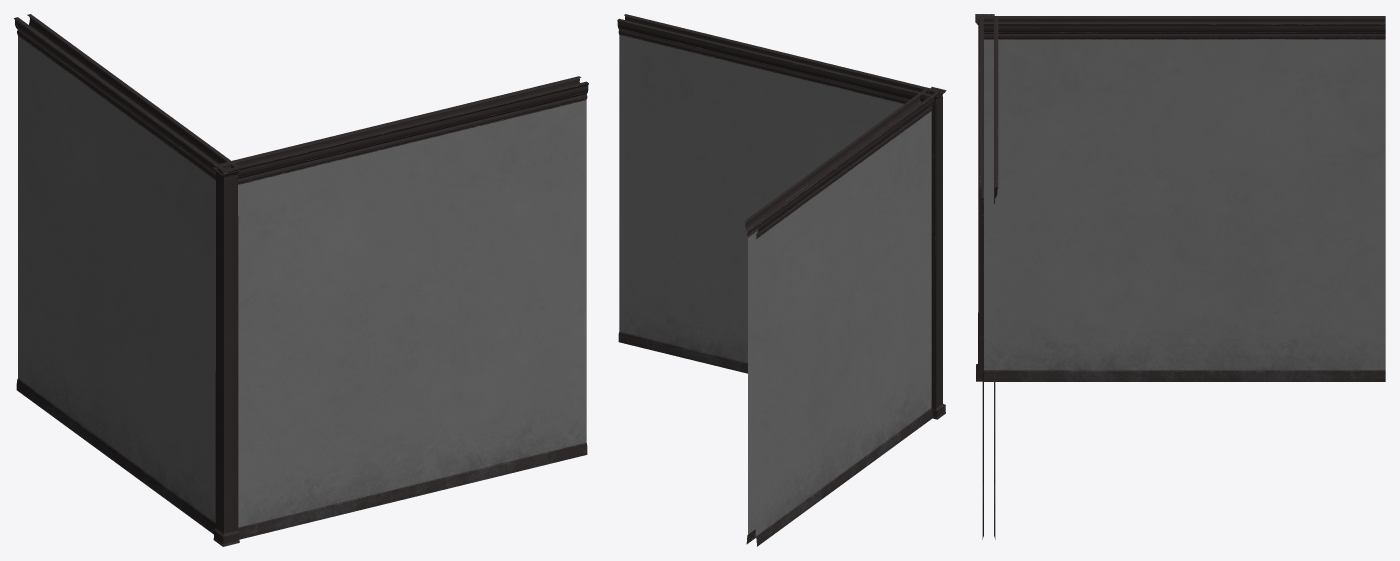
The model's file is sm_wall_full_corner_TS.FBX.
The picture shows the model from 3 angles, left to right: view 1: azimuth 30°, elevation 25°; view 2: azimuth 150°, elevation 25°; view 3: azimuth 270°, elevation 25°; orthographic projection. The views are drawn at different scales.
Parts seen in each view (by area): view 1: sm_wall_006, Object001; view 2: sm_wall_006, Object001; view 3: Object001, sm_wall_006.
Boxes of the visible parts, x1=… form: sm_wall_006: x1=14, y1=17, x2=588, y2=546; Object001: x1=27, y1=14, x2=581, y2=173; sm_wall_006: x1=624, y1=14, x2=946, y2=546; Object001: x1=617, y1=18, x2=930, y2=544; Object001: x1=984, y1=17, x2=1385, y2=539; sm_wall_006: x1=975, y1=14, x2=1385, y2=539.
Bounding box in the file's own units: 1034 × 1001 × 1034.
Materials: 1 (1 with a texture image).
